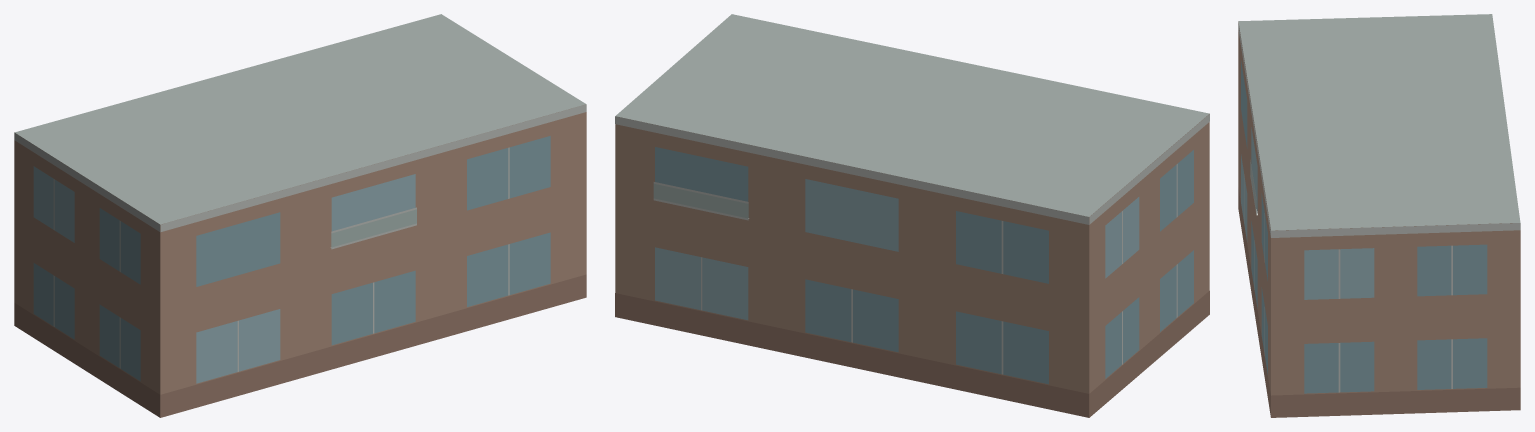
The model's file is survey-upis-32804742.glb.
3 renders of one model, left to right at view 1: azimuth 30°, elevation 25°; view 2: azimuth 150°, elevation 25°; view 3: azimuth 270°, elevation 25°, orthographic. The views are drawn at different scales.
Visible parts, largest first — view 1: survey-upis-32804742.tmp; view 2: survey-upis-32804742.tmp; view 3: survey-upis-32804742.tmp.
Boxes of the visible parts, left/top/right/bottom form: survey-upis-32804742.tmp: left=14, top=14, right=586, bottom=417; survey-upis-32804742.tmp: left=615, top=14, right=1209, bottom=417; survey-upis-32804742.tmp: left=1238, top=14, right=1520, bottom=417.
Size of the model in its own units: 15.14 by 6.1 by 8.34.
